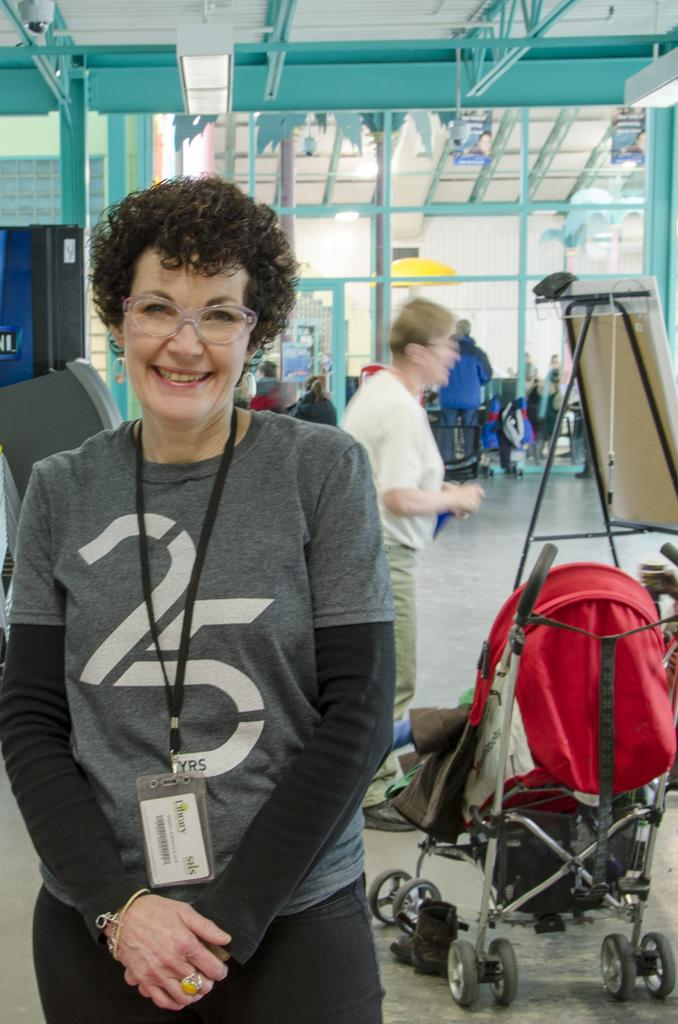Luggage-and-bags: (252, 387, 291, 420), (483, 399, 501, 456)
